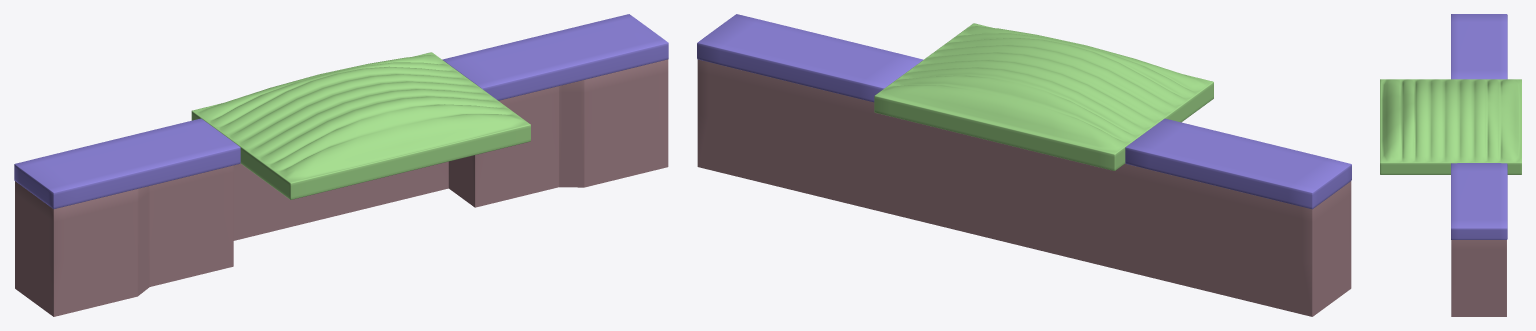
Rendered from Stage_low.fbx.
3 views of the same model, side by side, from view 1: azimuth 30°, elevation 25°; view 2: azimuth 150°, elevation 25°; view 3: azimuth 270°, elevation 25° (orthographic). The views are drawn at different scales.
Parts seen in each view (by area): view 1: Wall_low, Inflatable_low, Roof_2_low, Roof_1_low; view 2: Wall_low, Inflatable_low, Roof_2_low, Roof_1_low; view 3: Inflatable_low, Roof_1_low, Wall_low, Roof_2_low.
Part boxes in pixels (x1,y1,x2,y2): Wall_low: [15, 59, 668, 316]; Inflatable_low: [191, 52, 530, 199]; Roof_2_low: [14, 118, 240, 208]; Roof_1_low: [442, 14, 668, 100]; Wall_low: [697, 59, 1351, 316]; Inflatable_low: [874, 23, 1213, 170]; Roof_2_low: [1125, 118, 1351, 209]; Roof_1_low: [697, 14, 923, 102]; Inflatable_low: [1380, 79, 1521, 174]; Roof_1_low: [1451, 163, 1507, 239]; Wall_low: [1451, 240, 1506, 316]; Roof_2_low: [1451, 14, 1507, 79].
Size of the model in its own units: 709 by 168 by 198.
